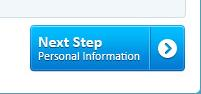button: (29, 24, 186, 73)
